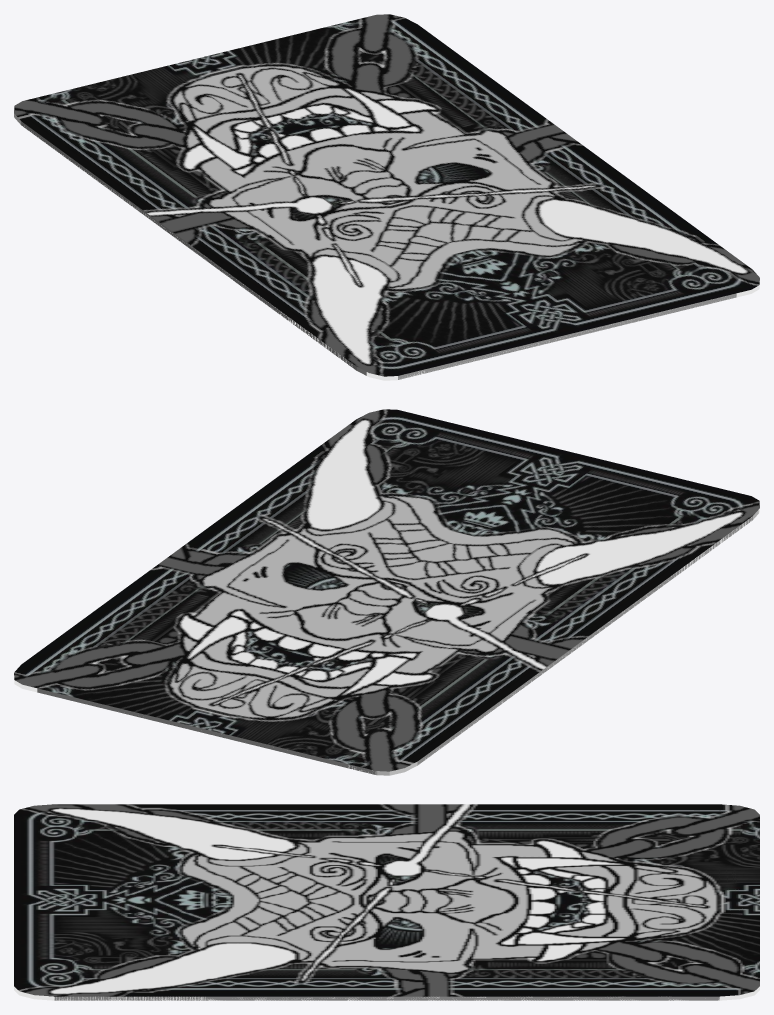
The model's file is TheButcher.fbx.
3 views of the same model, one above another, from view 1: azimuth 30°, elevation 25°; view 2: azimuth 150°, elevation 25°; view 3: azimuth 270°, elevation 25° (orthographic).
Visible parts, largest first — view 1: Plane; view 2: Plane; view 3: Plane.
Boxes of the visible parts, x1,y1,x2,y2 form: Plane: [14, 14, 759, 380]; Plane: [14, 409, 759, 775]; Plane: [14, 804, 759, 1000].
Size of the model in its own units: 184 by 1.84 by 301.
Materials: 2 (2 with a texture image).
